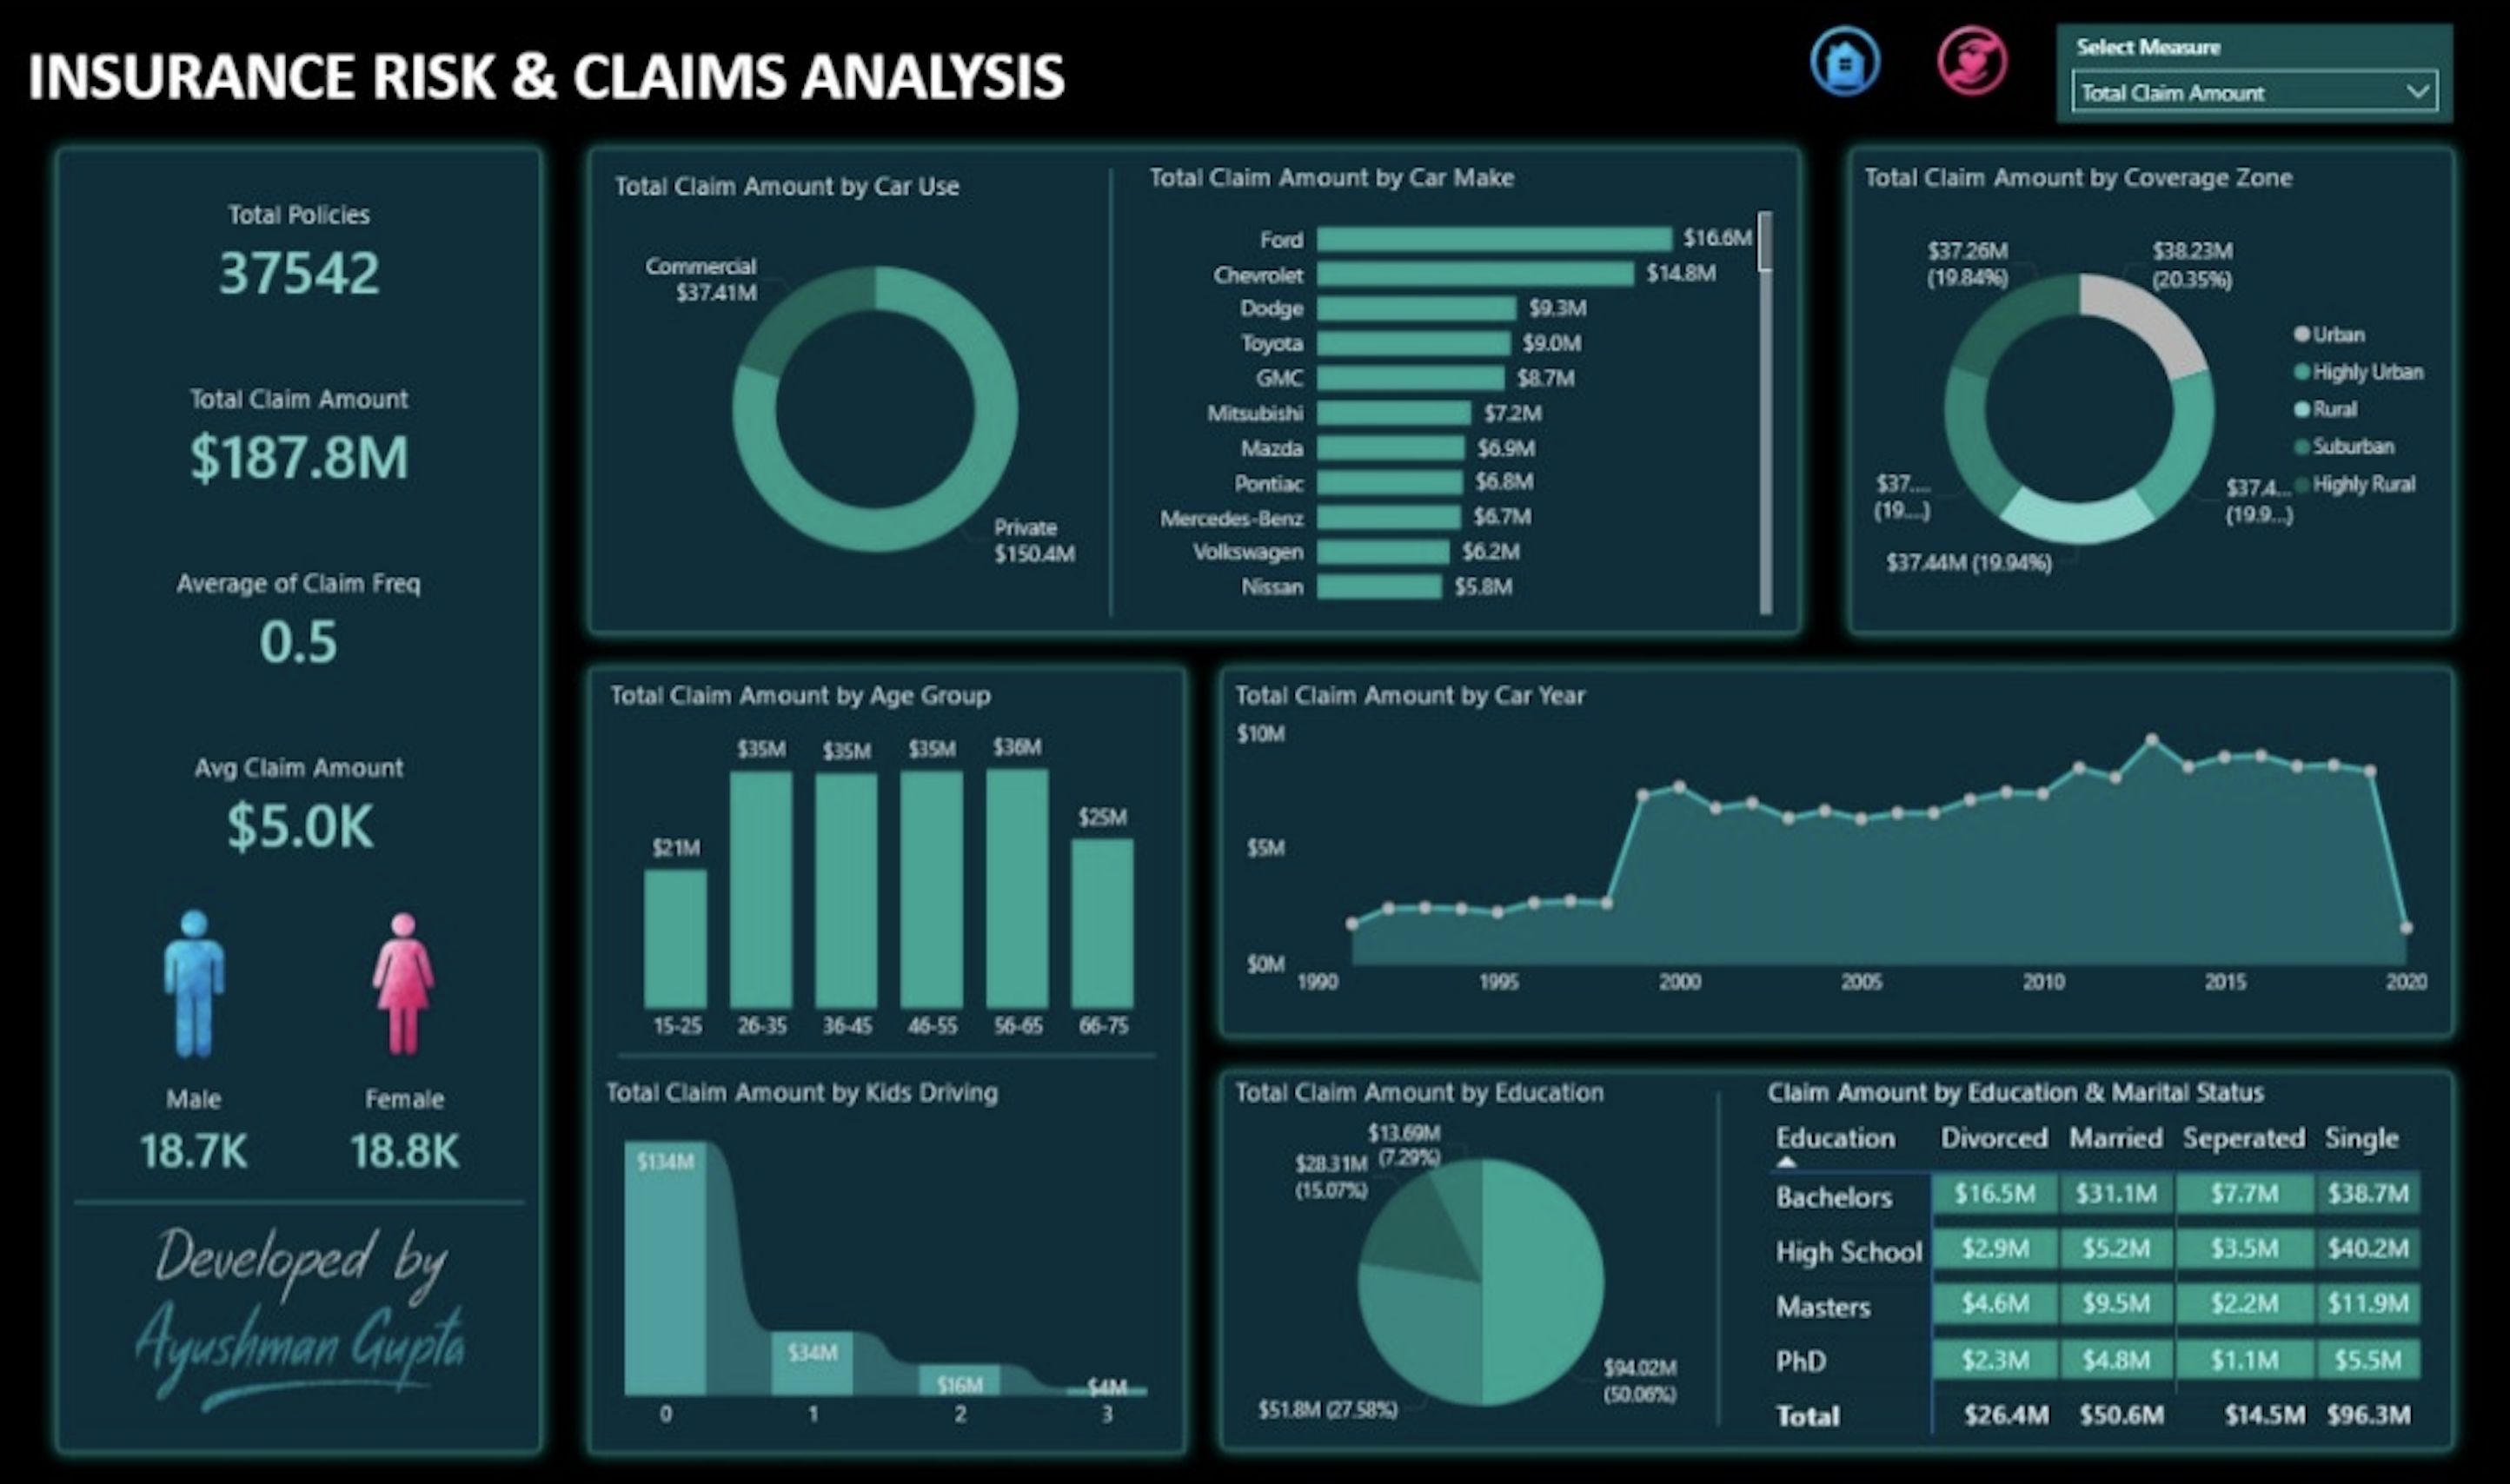

The dashboard page shown, as its layout file describes it:
{"tool":"powerbi","page":{"name":"Page 1","canvas":[1600,950],"ordinal":0},"visuals":[{"type":"textbox","box":[14.8,18.5,678.1,66.5],"z":0},{"type":"shape","box":[27.9,85.1,329.6,849.5],"z":1000},{"type":"cardVisual","fields":{"Data":["insurance_data_car.Total Policies","insurance_data_car.Total Claim Amount","Avg(insurance_data_car.Claim Freq)","insurance_data_car.Avg Claim Amount"]},"box":[58.8,108.3,269.2,459.6],"z":2000},{"type":"cardVisual","fields":{"Data":["insurance_data_car.Male Count","insurance_data_car.Female Count"]},"box":[63.4,663.8,260,109.9],"z":3000},{"type":"image","box":[68.1,567.9,116.1,116.1],"z":4000},{"type":"image","box":[201.2,567.9,116.1,116.1],"z":5000},{"type":"slicer","fields":{"Values":["Select Measure.Select Measure"]},"box":[1309.1,26.3,252.2,63.4],"z":6000},{"type":"shape","box":[366.7,85.1,790.7,329.6],"z":7000},{"type":"donutChart","fields":{"Y":["insurance_data_car.Total Policies"],"Category":["insurance_data_car.Car Use"]},"box":[388.4,108.3,340.4,284.7],"z":8000},{"type":"clusteredBarChart","fields":{"Y":["insurance_data_car.Total Policies"],"Category":["insurance_data_car.Car Make"]},"box":[728.8,103.7,405.4,294],"z":9000},{"type":"shape","box":[1166.7,85.1,405.4,329.6],"z":10000},{"type":"donutChart","fields":{"Y":["insurance_data_car.Total Policies"],"Category":["insurance_data_car.Coverage Zone"]},"box":[1182.2,103.7,374.5,295.6],"z":11000},{"type":"shape","box":[366.7,414.7,400,519.9],"z":12000},{"type":"clusteredColumnChart","fields":{"Y":["insurance_data_car.Total Policies"],"Category":["insurance_data_car.Age Group"]},"box":[385.3,431.7,365.2,239.8],"z":13000},{"type":"ribbonChart","fields":{"Y":["insurance_data_car.Total Policies"],"Category":["insurance_data_car.Kids Driving"]},"box":[383.8,683.9,365.2,233.7],"z":14000},{"type":"shape","box":[767.5,414.7,804.6,255.3],"z":15000},{"type":"areaChart","fields":{"Y":["insurance_data_car.Total Policies"],"Category":["insurance_data_car.Car Year"]},"box":[783.4,432.3,766.7,212.5],"z":16000},{"type":"shape","box":[767.5,671.6,804.6,261.5],"z":17000},{"type":"pieChart","fields":{"Y":["insurance_data_car.Total Policies"],"Category":["insurance_data_car.Education"]},"box":[783,683.9,321.9,242.9],"z":18000},{"type":"pivotTable","title":"Claim Amount by Education & Marital Status","fields":{"Rows":["insurance_data_car.Education"],"Columns":["insurance_data_car.Marital Status"],"Values":["insurance_data_car.Total Claim Amount"]},"box":[1121.9,683.9,428.6,242.9],"z":19000},{"type":"shape","box":[558.6,108.3,300.2,284.7],"z":20000},{"type":"shape","box":[943.9,694.8,300.2,212],"z":21000},{"type":"shape","box":[396.1,529.2,342,284.7],"z":22000},{"type":"shape","box":[49.5,622.1,286.3,284.7],"z":23000},{"type":"image","box":[682.4,17,80.5,80.5],"z":24000},{"type":"image","box":[43.3,731.9,300.2,218.2],"z":26000}]}

Visuals, with their boxes in screenshot pixels (x1, y1, x2, y2), scaled from the page's 1600x950 canvas onto the 2510x1484 screenshot:
textbox: crop(23, 29, 1087, 133)
shape: crop(43, 133, 561, 1460)
cardVisual - insurance_data_car.Total Policies x insurance_data_car.Total Claim Amount: crop(92, 169, 515, 887)
cardVisual - insurance_data_car.Male Count x insurance_data_car.Female Count: crop(99, 1037, 508, 1209)
image: crop(107, 887, 289, 1069)
image: crop(315, 887, 498, 1069)
slicer - Select Measure.Select Measure: crop(2054, 41, 2449, 140)
shape: crop(575, 133, 1816, 648)
donutChart - insurance_data_car.Total Policies x insurance_data_car.Car Use: crop(609, 169, 1143, 614)
clusteredBarChart - insurance_data_car.Total Policies x insurance_data_car.Car Make: crop(1143, 162, 1779, 621)
shape: crop(1830, 133, 2467, 648)
donutChart - insurance_data_car.Total Policies x insurance_data_car.Coverage Zone: crop(1855, 162, 2442, 624)
shape: crop(575, 648, 1203, 1460)
clusteredColumnChart - insurance_data_car.Total Policies x insurance_data_car.Age Group: crop(604, 674, 1178, 1049)
ribbonChart - insurance_data_car.Total Policies x insurance_data_car.Kids Driving: crop(602, 1069, 1175, 1434)
shape: crop(1204, 648, 2467, 1047)
areaChart - insurance_data_car.Total Policies x insurance_data_car.Car Year: crop(1229, 675, 2432, 1007)
shape: crop(1204, 1049, 2467, 1458)
pieChart - insurance_data_car.Total Policies x insurance_data_car.Education: crop(1228, 1069, 1733, 1448)
"Claim Amount by Education & Marital Status" pivotTable: crop(1760, 1069, 2433, 1448)
shape: crop(876, 169, 1347, 614)
shape: crop(1481, 1085, 1952, 1416)
shape: crop(621, 826, 1158, 1271)
shape: crop(77, 971, 527, 1416)
image: crop(1071, 27, 1197, 152)
image: crop(68, 1143, 539, 1483)
